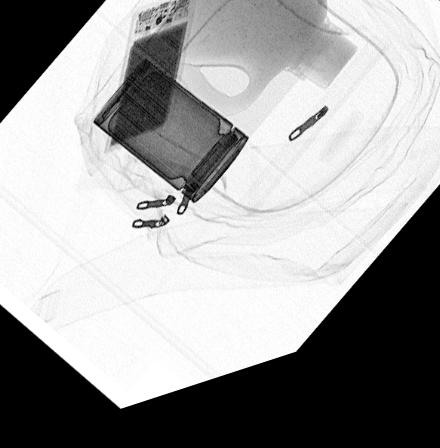Powerbank: (103, 0, 198, 158)
